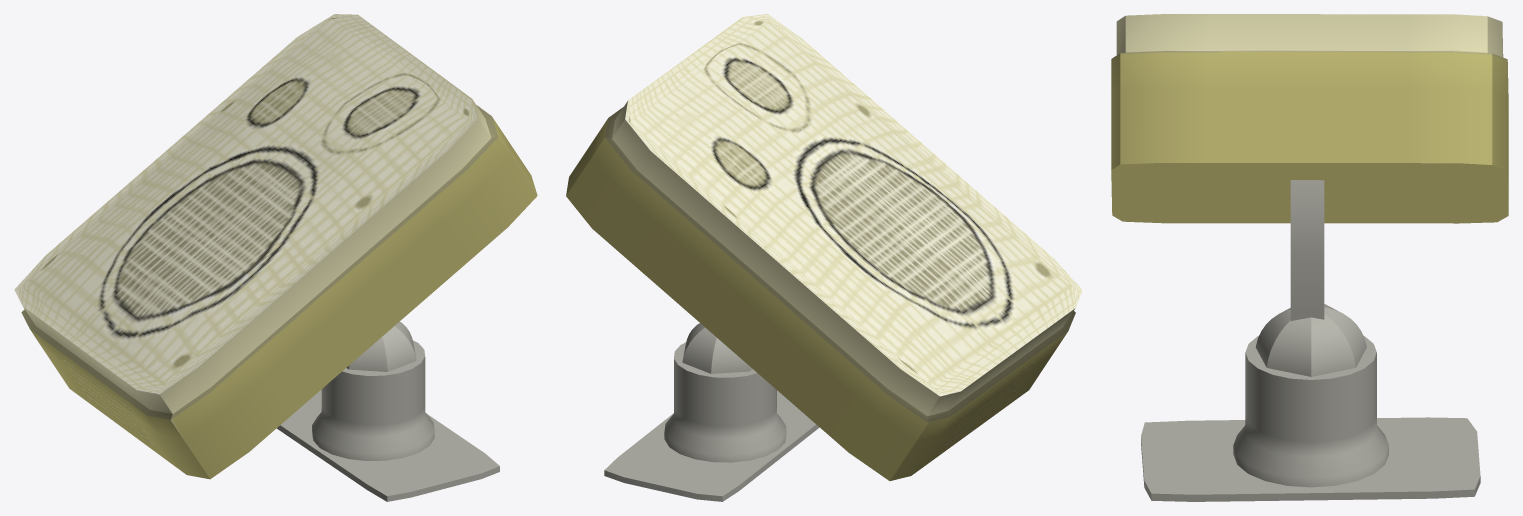
The model's file is Loudspeaker FBX.fbx.
3 renders of one model, left to right at view 1: azimuth 30°, elevation 25°; view 2: azimuth 150°, elevation 25°; view 3: azimuth 270°, elevation 25°, orthographic. The views are drawn at different scales.
Visible parts, largest first — view 1: speaker, draai_knop, plaatje, bol; view 2: speaker, draai_knop, plaatje, bol; view 3: speaker, plaatje, draai_knop, bol, brug.
Boxes of the visible parts, left/top/right/bottom form: speaker: left=14, top=14, right=537, bottom=479; draai_knop: left=312, top=340, right=434, bottom=460; plaatje: left=277, top=389, right=499, bottom=501; bol: left=346, top=321, right=416, bottom=371; speaker: left=566, top=14, right=1082, bottom=480; draai_knop: left=664, top=342, right=786, bottom=462; plaatje: left=604, top=390, right=819, bottom=501; bol: left=682, top=323, right=752, bottom=373; speaker: left=1111, top=14, right=1508, bottom=223; plaatje: left=1141, top=417, right=1480, bottom=501; draai_knop: left=1233, top=335, right=1388, bottom=487; bol: left=1255, top=304, right=1366, bottom=376; brug: left=1290, top=180, right=1324, bottom=321.
Size of the model in its own units: 0.6728 by 0.6129 by 0.4668.
